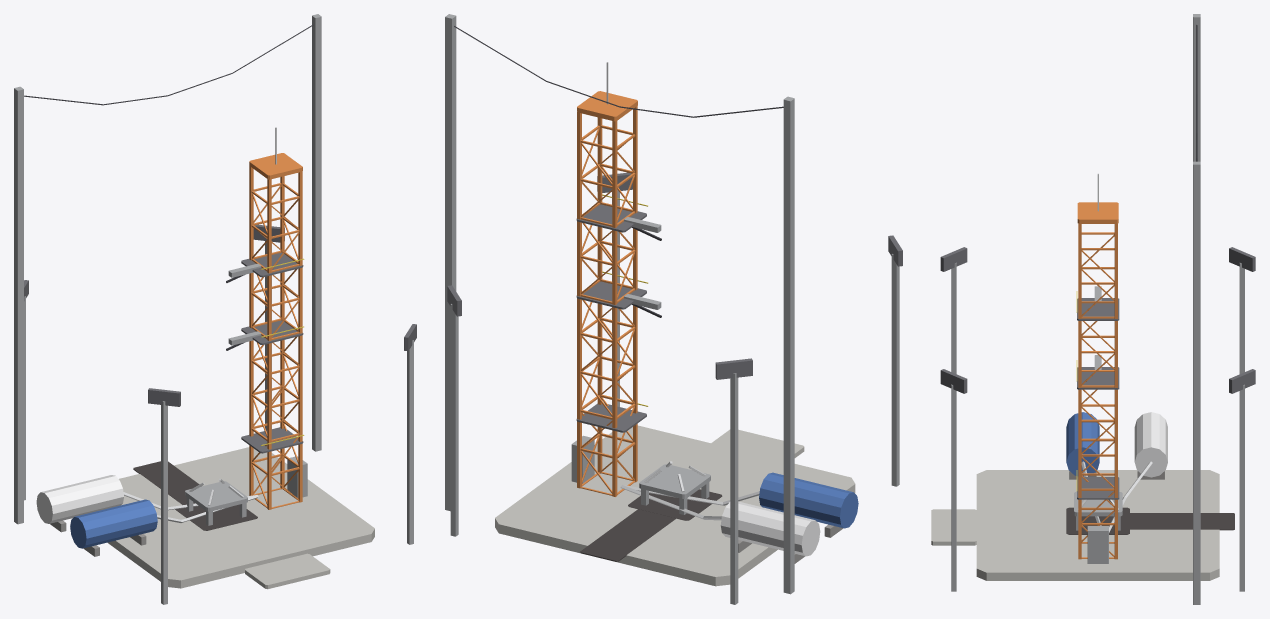
Rendered from plataforma-hanbit.fbx.
The picture shows the model from 3 angles, left to right: view 1: azimuth 30°, elevation 25°; view 2: azimuth 150°, elevation 25°; view 3: azimuth 270°, elevation 25°; orthographic projection. The views are drawn at different scales.
Visible parts, largest first — view 1: Plataforma; view 2: Plataforma; view 3: Plataforma.
Part boxes in pixels (x1,y1,x2,y2): Plataforma: (14,14,416,604); Plataforma: (445,14,902,604); Plataforma: (931,14,1255,604).
Bounding box in the file's own units: 23.5 × 32 × 21.38.
Materials: 1 (1 with a texture image).
